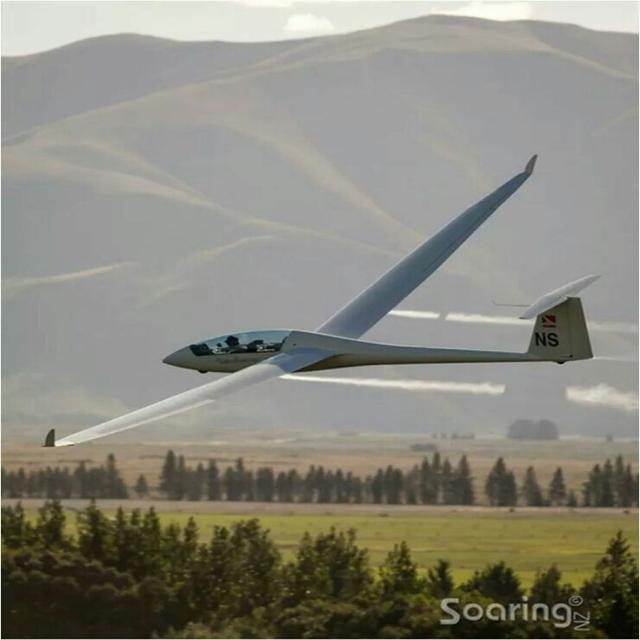iha: (42, 151, 602, 451)
